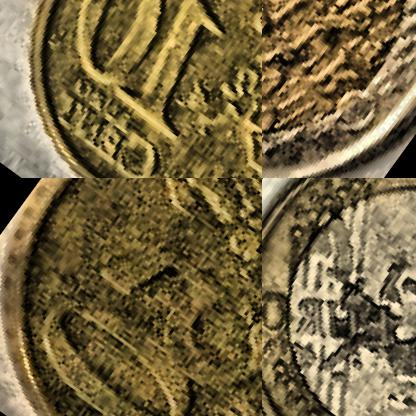coin: (0, 178, 261, 415), (0, 0, 261, 177), (262, 178, 415, 415), (262, 0, 415, 177)
